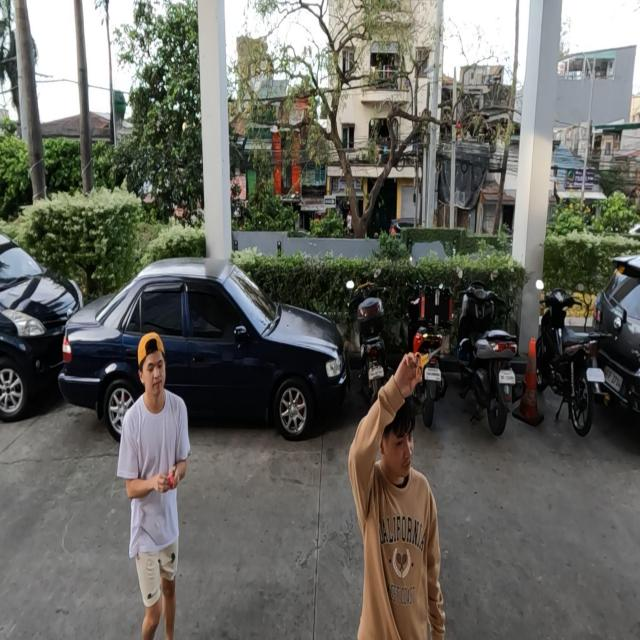scissor: (414, 345, 442, 381), (166, 464, 177, 490)
